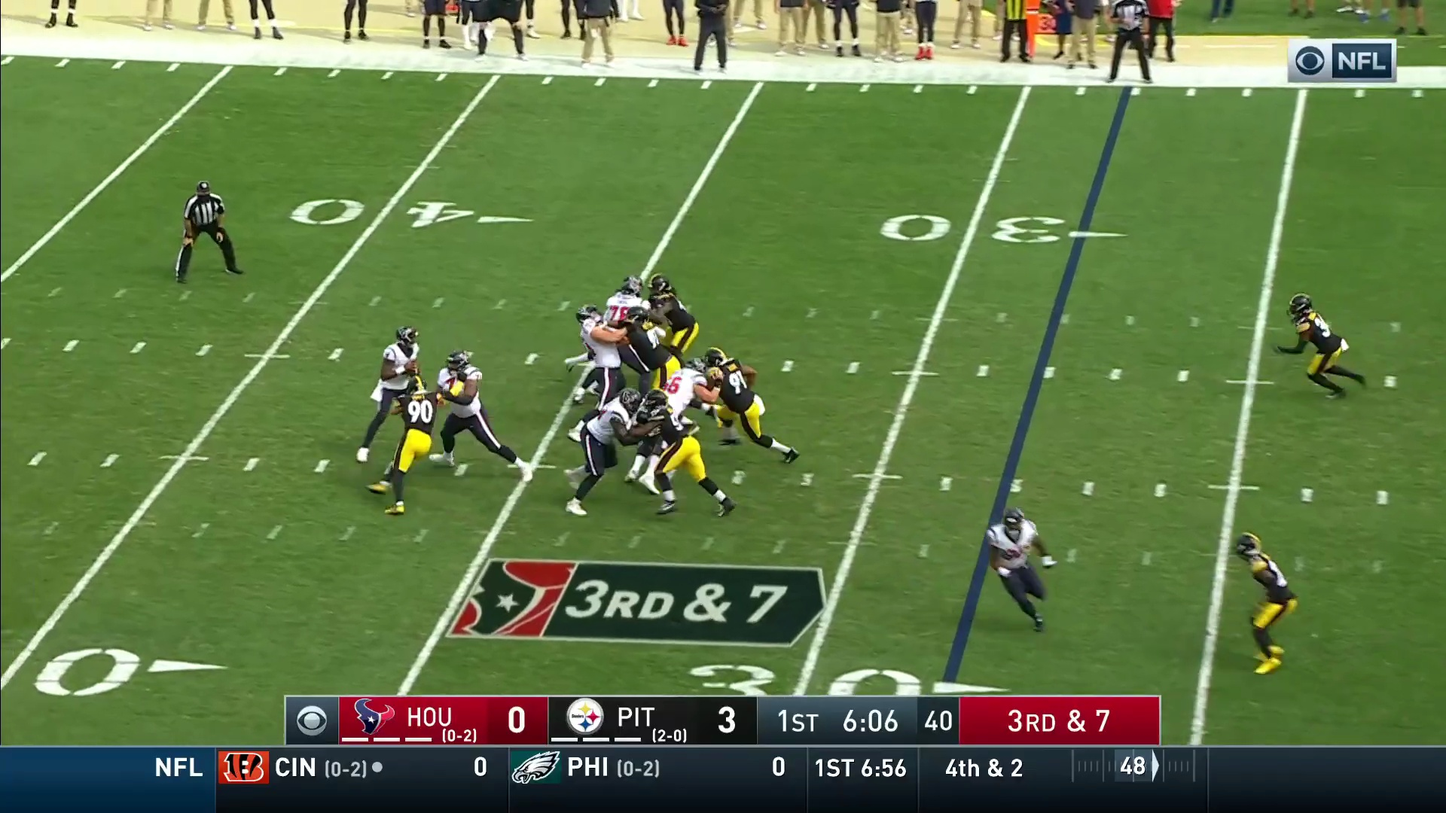Player: (987, 509, 1050, 630), (437, 351, 494, 464), (624, 387, 671, 489), (715, 355, 768, 444), (605, 276, 652, 374), (578, 307, 625, 403), (648, 274, 698, 362), (391, 384, 435, 477)
